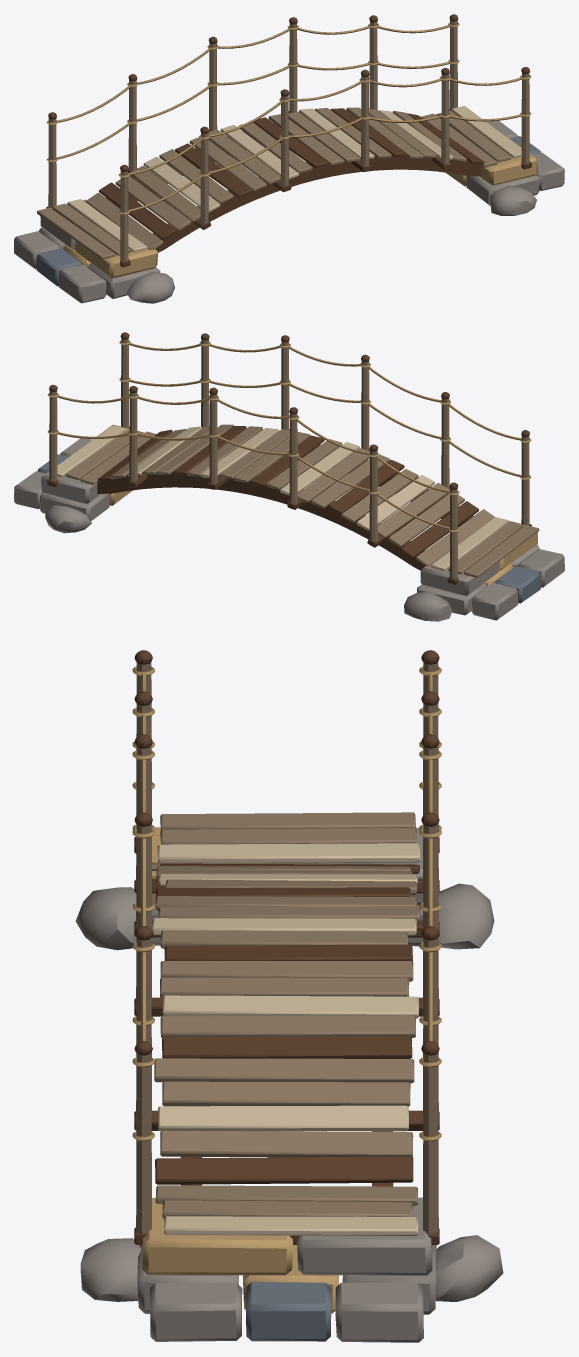
File: deco_footbridge.fbx
3 renders of one model, top to bottom at view 1: azimuth 30°, elevation 25°; view 2: azimuth 150°, elevation 25°; view 3: azimuth 270°, elevation 25°, orthographic. The views are drawn at different scales.
Parts seen in each view (by area): view 1: Footbridge_Deck, Footbridge_Railings, Footbridge_Abutments; view 2: Footbridge_Deck, Footbridge_Railings, Footbridge_Abutments; view 3: Footbridge_Deck, Footbridge_Abutments, Footbridge_Railings.
Part boxes in pixels (left/top/right/bottom): Footbridge_Deck: left=37, top=106, right=531, bottom=267; Footbridge_Railings: left=47, top=14, right=531, bottom=266; Footbridge_Abutments: left=14, top=110, right=564, bottom=303; Footbridge_Deck: left=47, top=424, right=539, bottom=584; Footbridge_Railings: left=48, top=332, right=531, bottom=584; Footbridge_Abutments: left=14, top=424, right=564, bottom=621; Footbridge_Deck: left=134, top=812, right=439, bottom=1244; Footbridge_Abutments: left=75, top=827, right=503, bottom=1342; Footbridge_Railings: left=132, top=650, right=441, bottom=1233.
Bounding box in the file's own units: 727 × 240 × 278.
